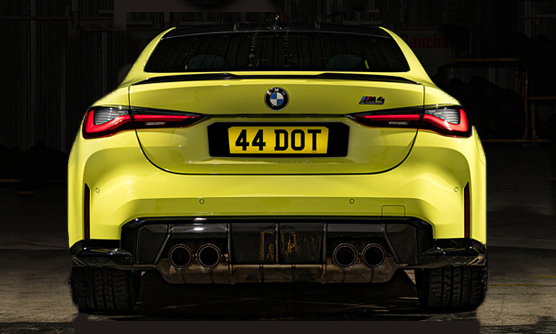number_plates: (227, 123, 330, 154)
